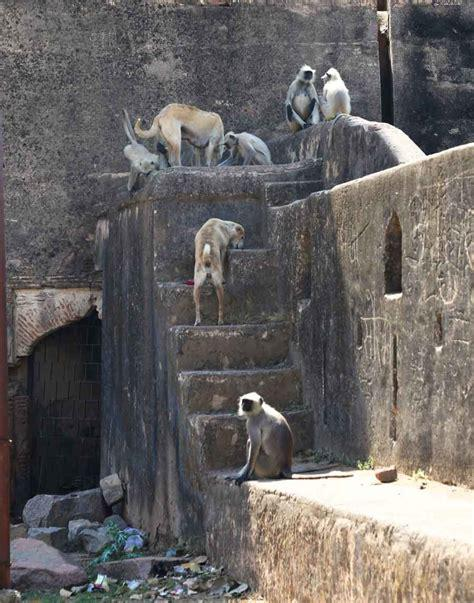dog: (135, 103, 225, 166), (193, 218, 245, 325)
monkey: (224, 392, 351, 484), (320, 67, 350, 146), (287, 65, 318, 131), (219, 132, 269, 165)
